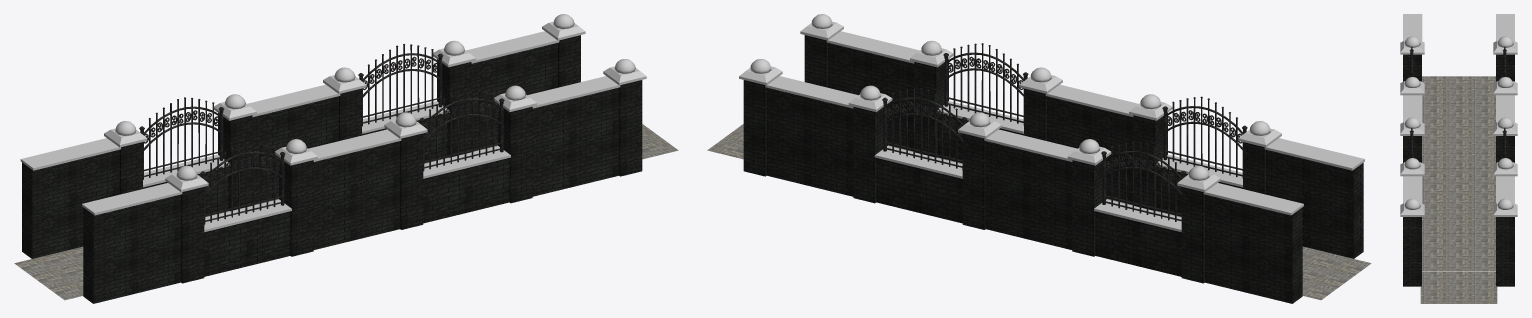
The model's file is MuroGrades.fbx.
3 views of the same model, side by side, from view 1: azimuth 30°, elevation 25°; view 2: azimuth 150°, elevation 25°; view 3: azimuth 270°, elevation 25° (orthographic). The views are drawn at different scales.
Parts seen in each view (by area): view 1: MuroAlto.005, MuroAlto.004, MuroAlto.003, MuroAlto, MuroAlto.001, MuroAlto.002, MuroBaixo.003, MuroBaixo.002, Pilar.006, Pilar.008, Cylinder.002, Cylinder.003 (+14 smaller); view 2: MuroAlto, MuroAlto.002, MuroAlto.001, MuroAlto.005, MuroAlto.004, MuroAlto.003, MuroBaixo.001, MuroBaixo, Pilar.003, Pilar.001, Cylinder.002, Cylinder.003 (+14 smaller); view 3: Chao.006, Chao.005, Chao.002, Chao.003, Chao.004, Chao.001, Chao, Pilar.005, Pilar.004, Pilar.002, Pilar, Pilar.009 (+15 smaller).
Part boxes in pixels (x1,y1,x2,y2): MuroAlto.005: [82, 183, 182, 303]; MuroAlto.004: [308, 129, 401, 249]; MuroAlto.003: [527, 76, 620, 196]; MuroAlto: [20, 138, 120, 258]; MuroAlto.001: [247, 84, 340, 204]; MuroAlto.002: [466, 31, 559, 151]; MuroBaixo.003: [204, 199, 291, 276]; MuroBaixo.002: [423, 146, 510, 223]; Pilar.006: [494, 85, 537, 203]; Pilar.008: [275, 139, 317, 256]; Cylinder.002: [419, 88, 504, 171]; Cylinder.003: [200, 142, 285, 224]; MuroAlto: [1203, 183, 1303, 303]; MuroAlto.002: [765, 76, 858, 196]; MuroAlto.001: [984, 129, 1077, 249]; MuroAlto.005: [1264, 138, 1364, 258]; MuroAlto.004: [1045, 84, 1138, 204]; MuroAlto.003: [826, 31, 919, 151]; MuroBaixo.001: [874, 146, 962, 223]; MuroBaixo: [1094, 199, 1181, 276]; Pilar.003: [848, 85, 892, 203]; Pilar.001: [1067, 139, 1111, 256]; Cylinder.002: [943, 43, 1028, 125]; Cylinder.003: [1162, 96, 1247, 178]; Chao.006: [1420, 271, 1497, 303]; Chao.005: [1422, 239, 1495, 271]; Chao.002: [1422, 174, 1495, 206]; Chao.003: [1422, 141, 1495, 173]; Chao.004: [1422, 206, 1495, 238]; Chao.001: [1422, 109, 1495, 141]; Chao: [1422, 76, 1495, 108]; Pilar.005: [1400, 198, 1424, 286]; Pilar.004: [1493, 198, 1517, 286]; Pilar.002: [1493, 117, 1517, 162]; Pilar: [1493, 36, 1517, 81]; Pilar.009: [1400, 36, 1424, 81].
Bounding box in the file's own units: 1401 × 261 × 305.
